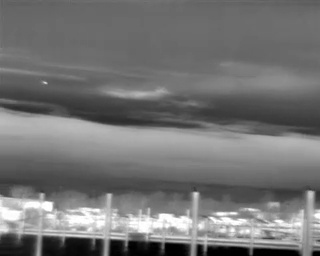BIRD: (40, 78, 50, 88)
